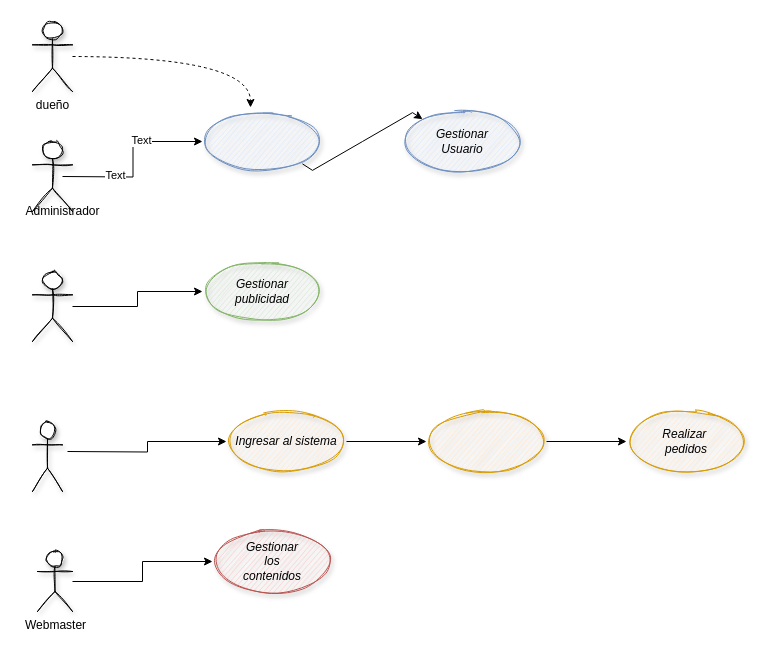
Image size: 770x650. Some labels were removed from this diagram. Here are the shapes that lost their labels. From the top down, the centre of each, then its label:
At point (263, 142): "Consultar reportes".
At point (53, 307): "Publicista".
At point (48, 457): "Cliente".
At point (487, 442): "Consultar productos".
